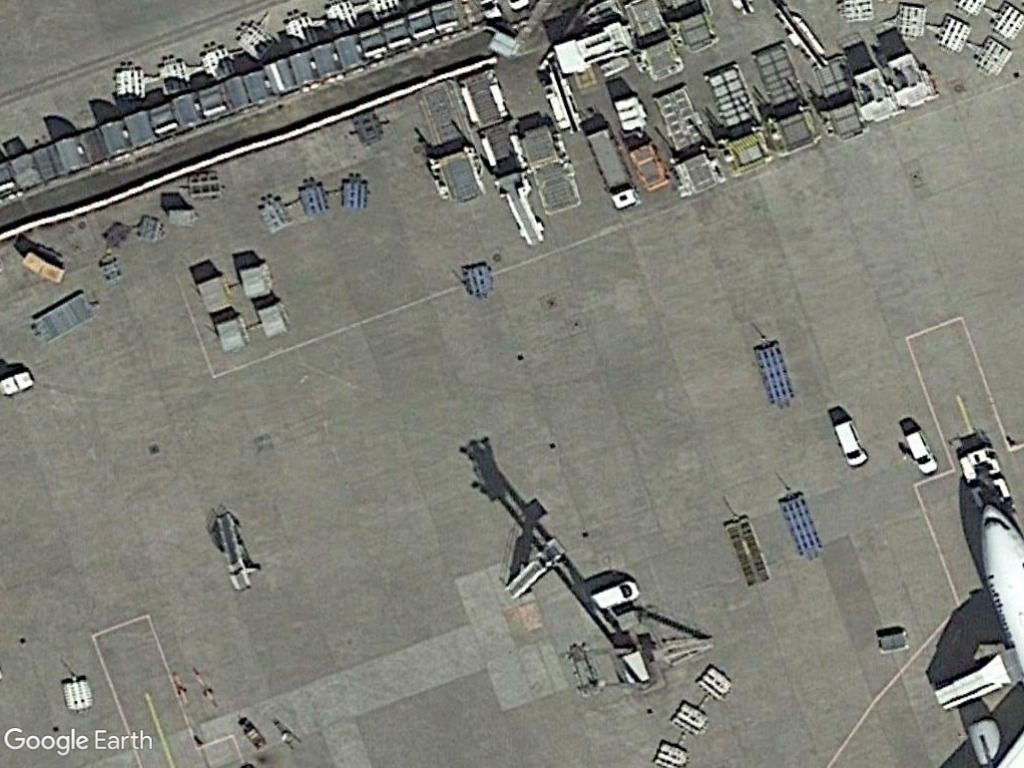stairtruck: (930, 652, 1011, 719), (500, 535, 565, 606), (492, 170, 550, 249), (209, 510, 259, 594)
truck: (580, 128, 642, 214)
van: (831, 416, 873, 480), (900, 422, 941, 481)
